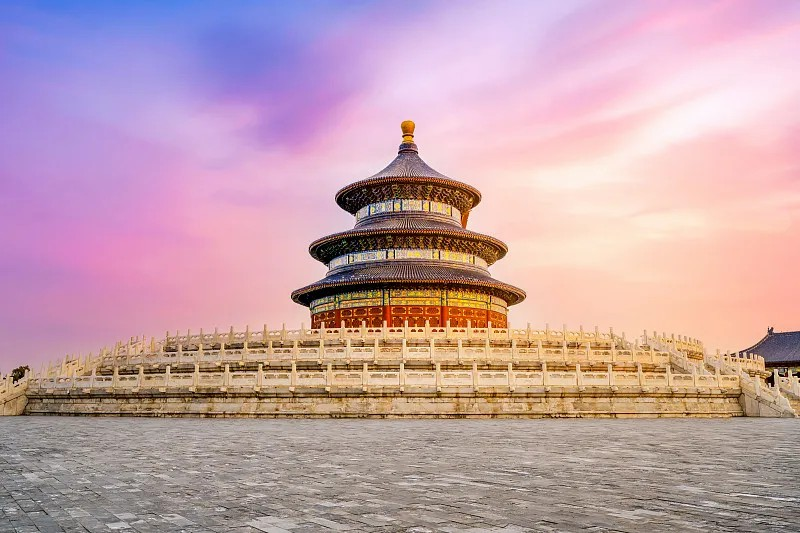Heaven: (289, 120, 527, 332)
